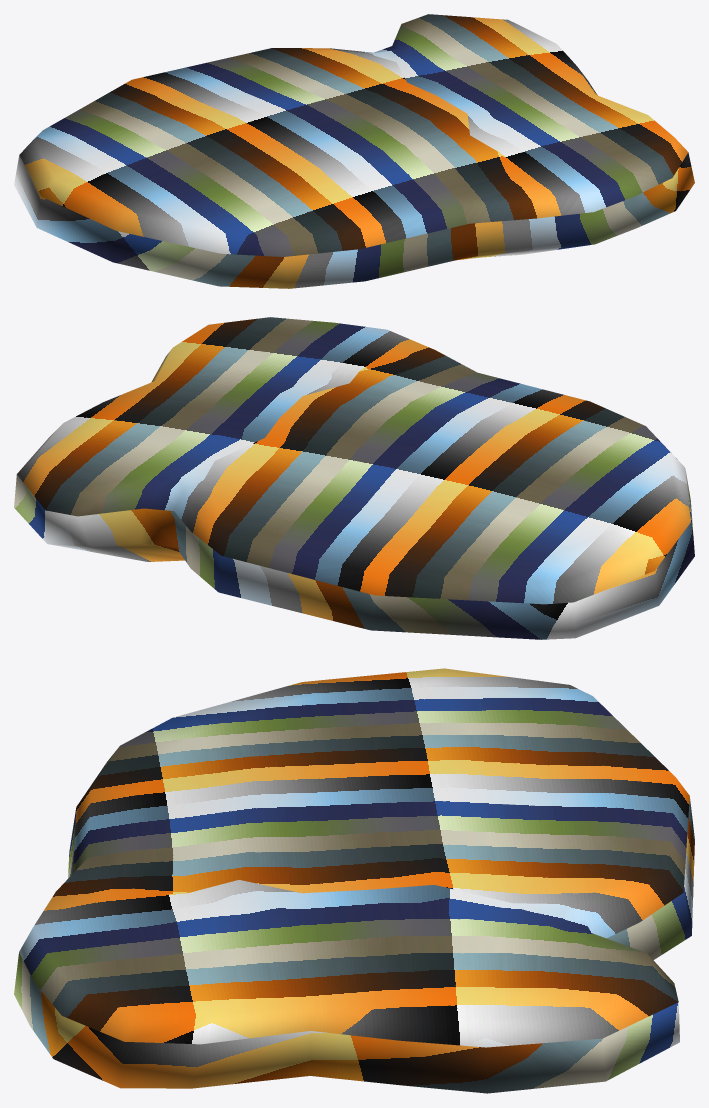
Rendered from Prop_SunlightSandcastleF.glb.
3 views of the same model, one above another, from view 1: azimuth 30°, elevation 25°; view 2: azimuth 150°, elevation 25°; view 3: azimuth 270°, elevation 25° (orthographic). The views are drawn at different scales.
Visible parts, largest first — view 1: Prop_SunlightSandcastleF; view 2: Prop_SunlightSandcastleF; view 3: Prop_SunlightSandcastleF.
Boxes of the visible parts, x1,y1,x2,y2 form: Prop_SunlightSandcastleF: [14, 14, 694, 288]; Prop_SunlightSandcastleF: [14, 317, 694, 639]; Prop_SunlightSandcastleF: [14, 668, 694, 1093].
Size of the model in its own units: 14.72 by 2.6 by 11.37.
1 material, 1 textured.
